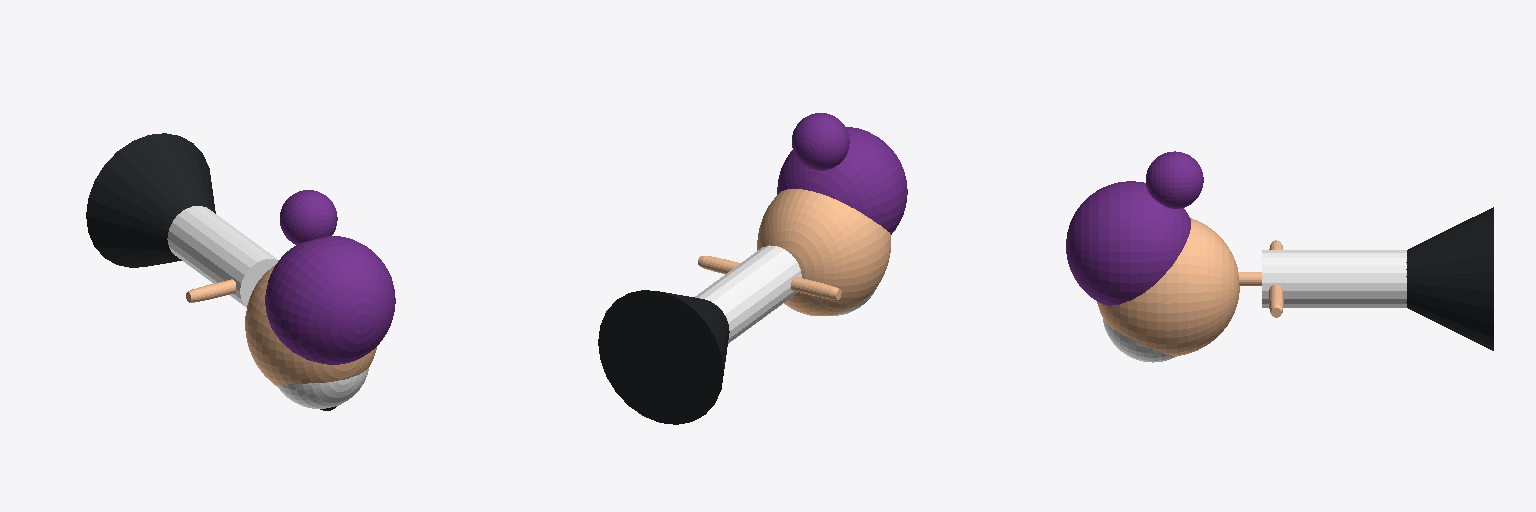
Rendered from tinker.obj.
3 views of the same model, side by side, from view 1: azimuth 30°, elevation 25°; view 2: azimuth 150°, elevation 25°; view 3: azimuth 270°, elevation 25° (orthographic).
Parts seen in each view (by area): view 1: obj_0; view 2: obj_0; view 3: obj_0.
Part boxes in pixels (x1,y1,x2,y2): obj_0: (86,133,395,410); obj_0: (598,113,907,424); obj_0: (1066,151,1493,362).
Size of the model in its own units: 22 by 31 by 59.